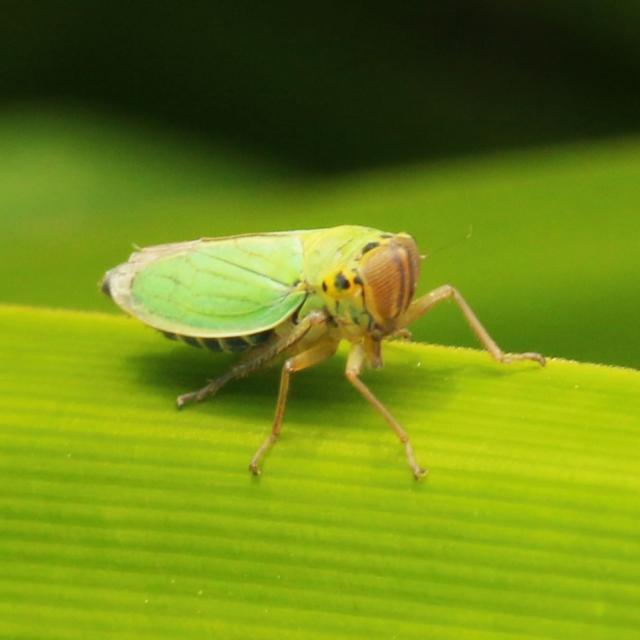Yechan: (90, 209, 507, 436)
